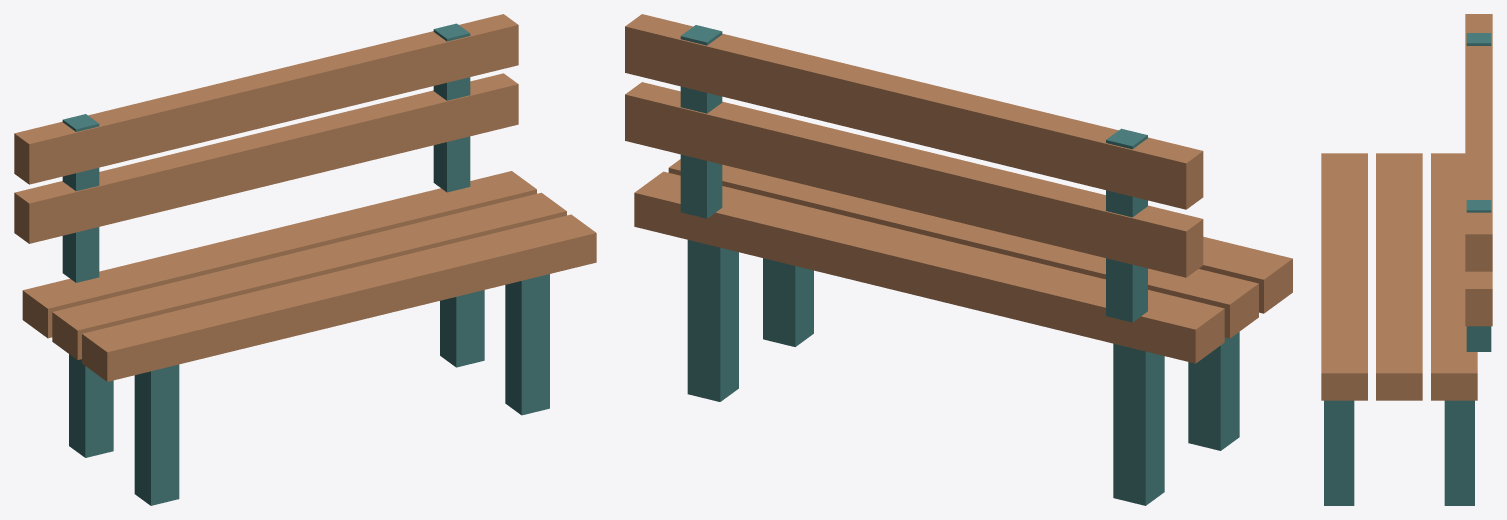
File: bench.glb
The picture shows the model from 3 angles, left to right: view 1: azimuth 30°, elevation 25°; view 2: azimuth 150°, elevation 25°; view 3: azimuth 270°, elevation 25°; orthographic projection. The views are drawn at different scales.
Visible parts, largest first — view 1: surface_#be8960, surface_#4b8584; view 2: surface_#be8960, surface_#4b8584; view 3: surface_#be8960, surface_#4b8584.
Part boxes in pixels (left/top/right/bottom): surface_#be8960: left=14, top=14, right=596, bottom=381; surface_#4b8584: left=62, top=23, right=549, bottom=505; surface_#be8960: left=625, top=14, right=1292, bottom=363; surface_#4b8584: left=680, top=25, right=1239, bottom=505; surface_#be8960: left=1321, top=14, right=1492, bottom=400; surface_#4b8584: left=1324, top=33, right=1491, bottom=505.
Size of the model in its own units: 1.9 by 1.18 by 0.625.
